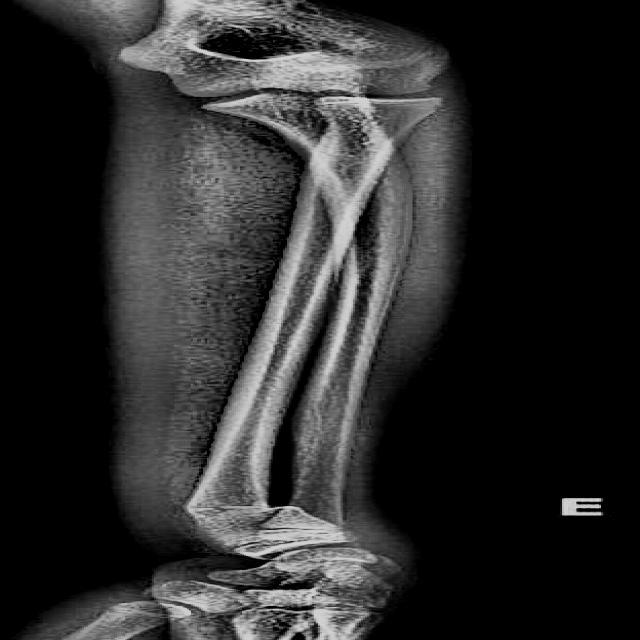fracture: (170, 501, 308, 518)
